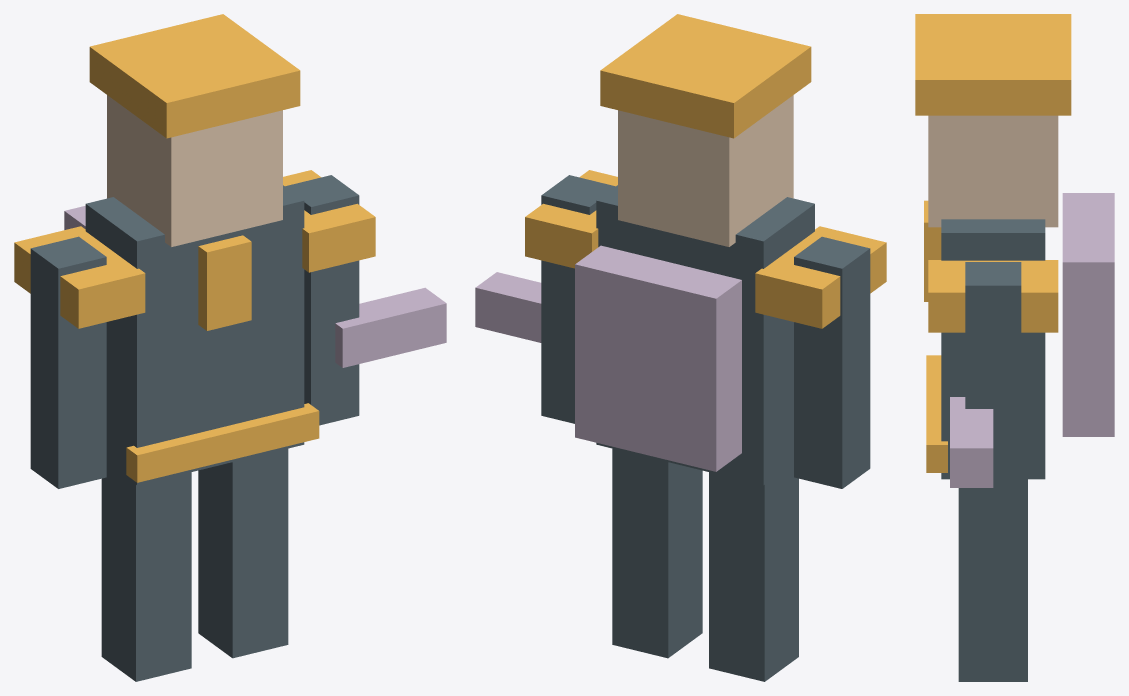
The model's file is 09_nyra_glassroot_diver_at_temporal.glb.
3 views of the same model, side by side, from view 1: azimuth 30°, elevation 25°; view 2: azimuth 150°, elevation 25°; view 3: azimuth 270°, elevation 25° (orthographic).
Visible parts, largest first — view 1: Nyra Glassroot, Diver at Temporal; view 2: Nyra Glassroot, Diver at Temporal; view 3: Nyra Glassroot, Diver at Temporal.
Boxes of the visible parts, x1,y1,x2,y2 form: Nyra Glassroot, Diver at Temporal: (14, 14, 446, 681); Nyra Glassroot, Diver at Temporal: (475, 14, 886, 681); Nyra Glassroot, Diver at Temporal: (915, 14, 1114, 681).
Bounding box in the file's own units: 0.987 × 1.47 × 0.4429.
